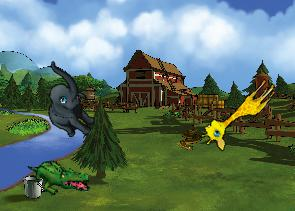crocodile: (27, 155, 91, 199)
elephant: (23, 60, 112, 144)
giraffe: (196, 69, 280, 155)
